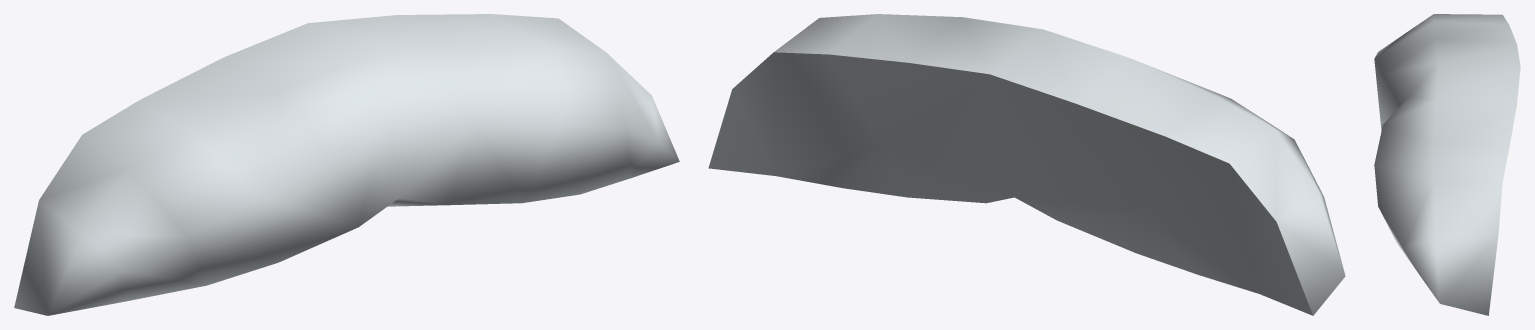
Rendered from Mustache_11.fbx.
3 views of the same model, side by side, from view 1: azimuth 30°, elevation 25°; view 2: azimuth 150°, elevation 25°; view 3: azimuth 270°, elevation 25° (orthographic). The views are drawn at different scales.
Parts seen in each view (by area): view 1: Mustache_11; view 2: Mustache_11; view 3: Mustache_11.
Boxes of the visible parts, x1=… form: Mustache_11: x1=14, y1=14, x2=679, y2=315; Mustache_11: x1=708, y1=14, x2=1345, y2=315; Mustache_11: x1=1374, y1=14, x2=1520, y2=315.
Size of the model in its own units: 26.47 by 7.9 by 7.36.
